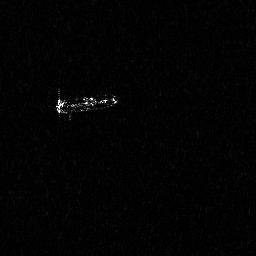ship: (50, 87, 120, 123)
